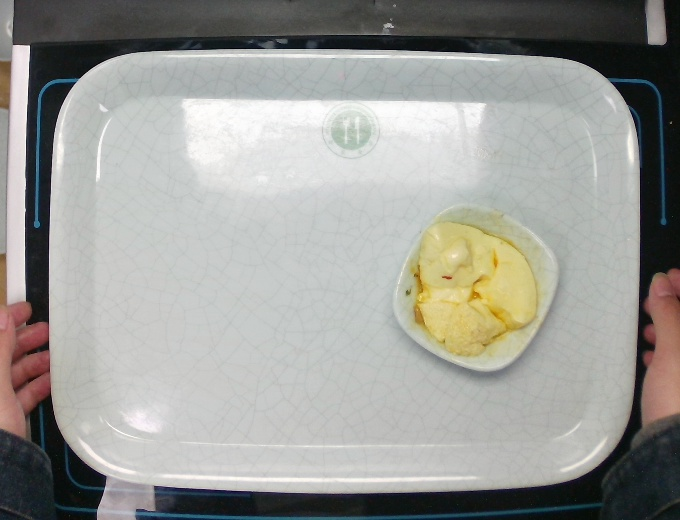JYsf-Si_Fang_Die: (389, 194, 570, 379)
